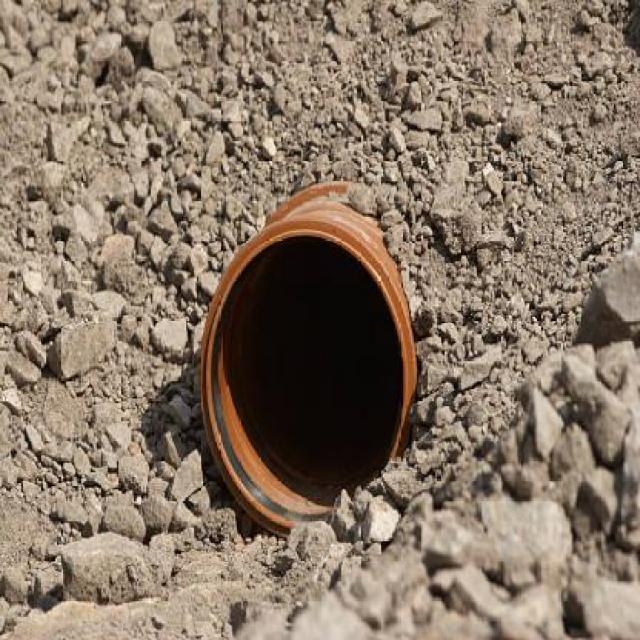pipe: (201, 218, 414, 532)
